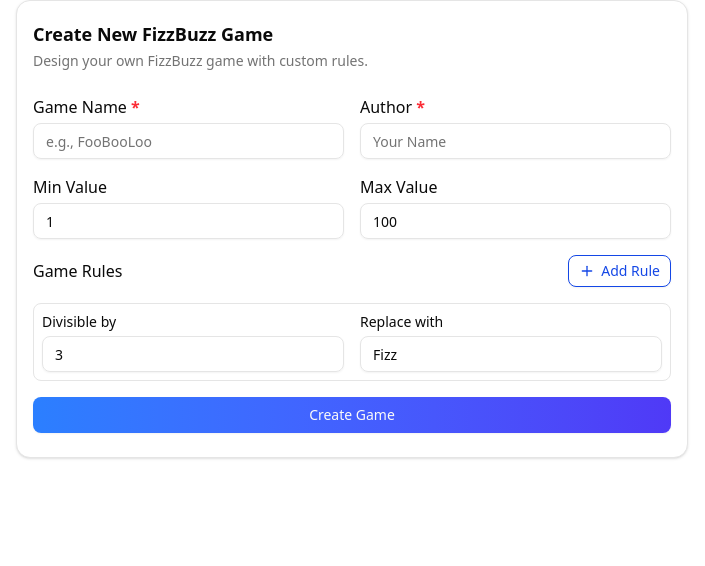
Test: GameEditor › adds a new rule
The width and height of the screenshot is (705, 566).
Expected: the number of number fields labelled "Divisible by" is 1, [42,336,344,372]
Expected: the field labelled "Replace with" holds "Fizz", [360,336,662,372]
Click the button "Add Rule" at (620, 271), box [568,255,671,287]
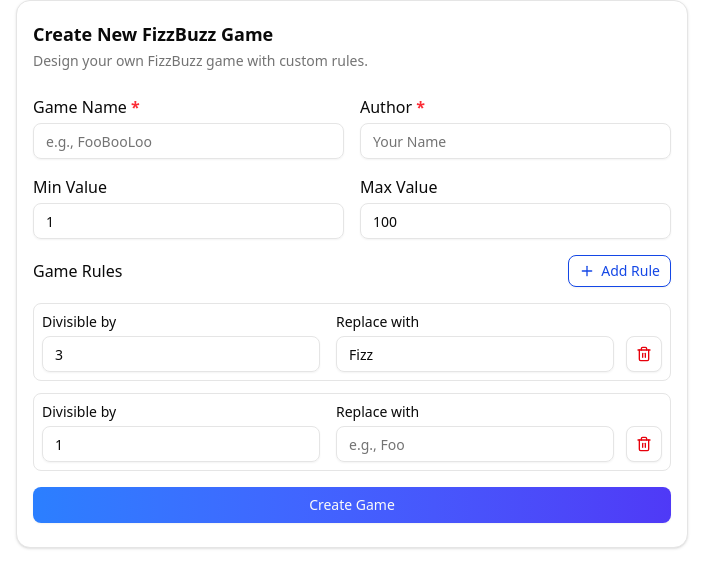
Expected: the number of number fields labelled "Divisible by" is 2, [42,336,320,372]; [42,426,320,462]
Expected: the 2nd number field labelled "Divisible by" holds "1", [42,426,320,462]
